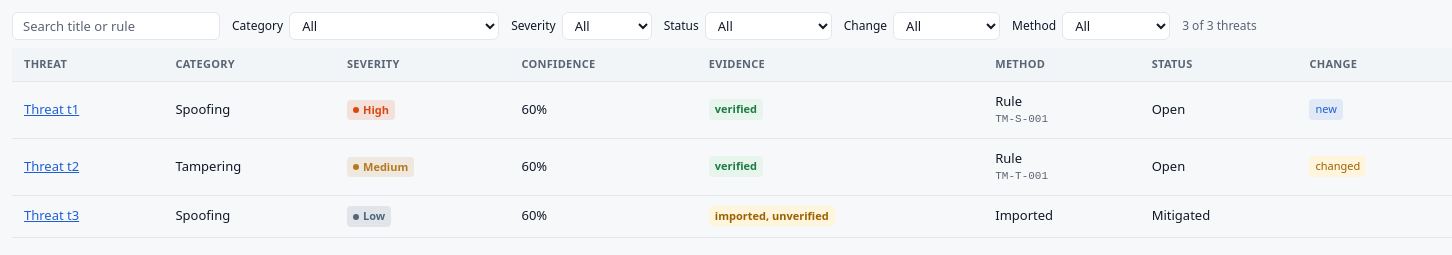
Scenario: threats table › filters by category and shows evidence labels
Check: the number of rows with test id "threat-row" is 3, box [12,81,1451,138]; [12,138,1451,195]; [12,195,1451,237]
Check: the text "imported, unverified" is shown, box [709,206,835,226]
Step 1. Select "Tampering" in the dropdown labelled "Category" → (394, 26), box [289,12,499,40]
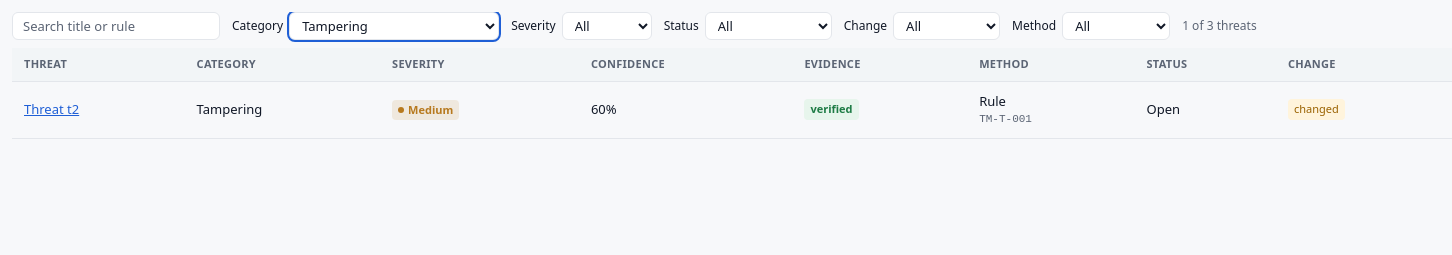
Check: the number of rows with test id "threat-row" is 1, box [12,81,1451,138]
Check: the text "1 of 3 threats" is shown, box [1182,17,1257,35]
